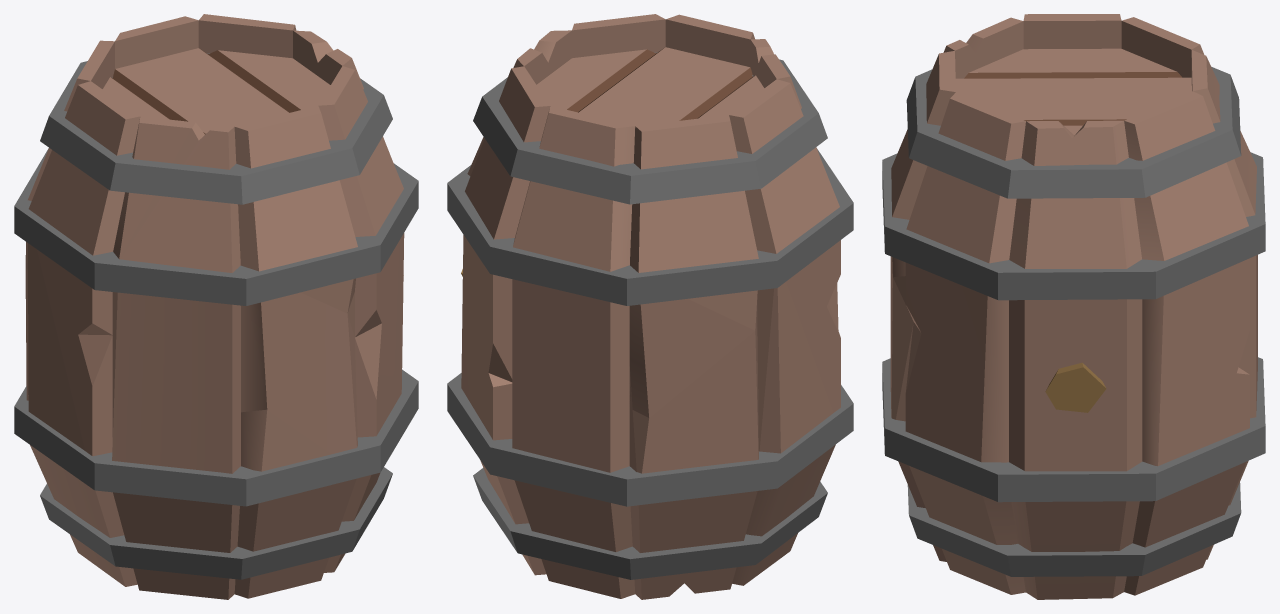
Rendered from Barrel.fbx.
3 views of the same model, side by side, from view 1: azimuth 30°, elevation 25°; view 2: azimuth 150°, elevation 25°; view 3: azimuth 270°, elevation 25° (orthographic).
Visible parts, largest first — view 1: SM_Prop_Barrel_01; view 2: SM_Prop_Barrel_01; view 3: SM_Prop_Barrel_01.
Boxes of the visible parts, x1,y1,x2,y2 form: SM_Prop_Barrel_01: [14, 14, 418, 599]; SM_Prop_Barrel_01: [447, 14, 853, 599]; SM_Prop_Barrel_01: [882, 14, 1265, 599].
Size of the model in its own units: 88.45 by 117 by 86.21.
